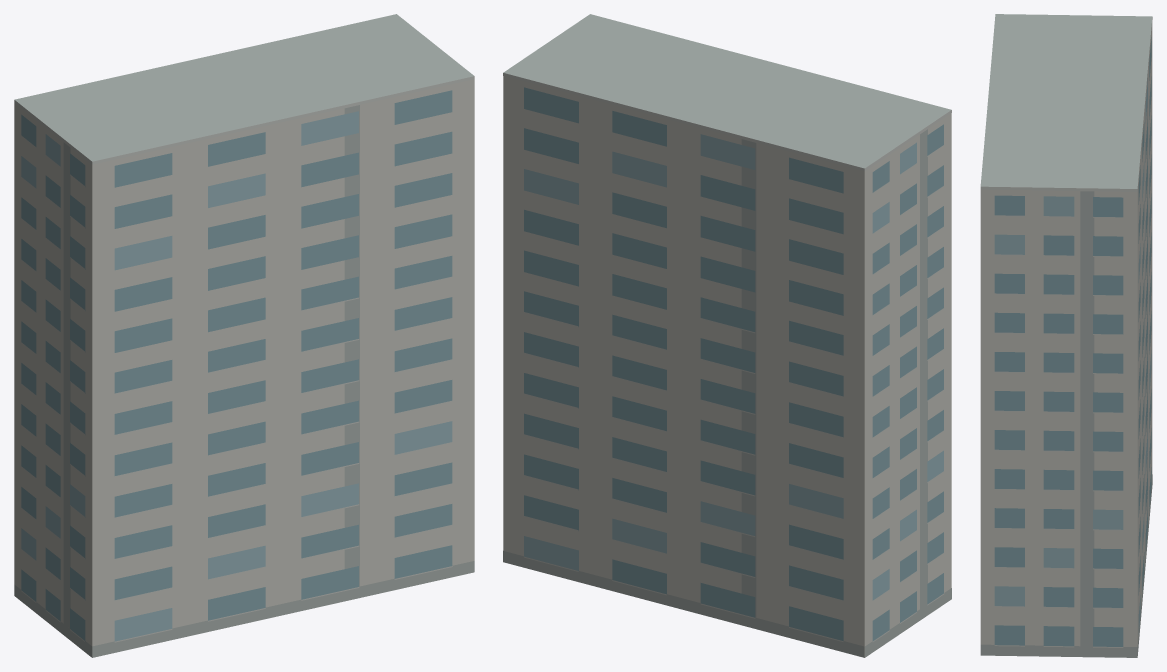
Rendered from residential-e8462778-16af-42e4-8c29-82aa74f601c6.glb.
The picture shows the model from 3 angles, left to right: view 1: azimuth 30°, elevation 25°; view 2: azimuth 150°, elevation 25°; view 3: azimuth 270°, elevation 25°; orthographic projection. The views are drawn at different scales.
Parts seen in each view (by area): view 1: residential-e8462778-16af-42e4-8c29-82aa74f601c6.tmp; view 2: residential-e8462778-16af-42e4-8c29-82aa74f601c6.tmp; view 3: residential-e8462778-16af-42e4-8c29-82aa74f601c6.tmp.
Boxes of the visible parts, x1=… form: residential-e8462778-16af-42e4-8c29-82aa74f601c6.tmp: x1=14, y1=14, x2=474, y2=657; residential-e8462778-16af-42e4-8c29-82aa74f601c6.tmp: x1=503, y1=14, x2=951, y2=657; residential-e8462778-16af-42e4-8c29-82aa74f601c6.tmp: x1=980, y1=14, x2=1152, y2=657.
Size of the model in its own units: 30.44 by 38 by 12.64.
